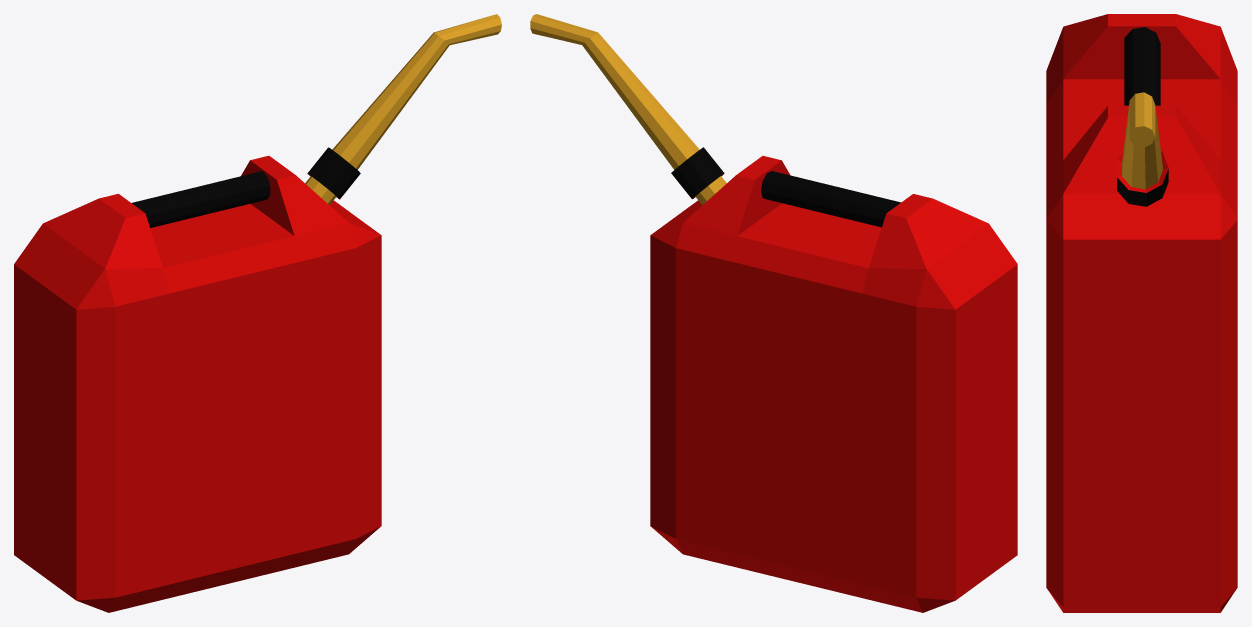
Rendered from GasCan.fbx.
3 views of the same model, side by side, from view 1: azimuth 30°, elevation 25°; view 2: azimuth 150°, elevation 25°; view 3: azimuth 270°, elevation 25° (orthographic). The views are drawn at different scales.
Visible parts, largest first — view 1: Cube; view 2: Cube; view 3: Cube.
Boxes of the visible parts, x1=… form: Cube: x1=14, y1=14, x2=501, y2=612; Cube: x1=530, y1=14, x2=1017, y2=612; Cube: x1=1046, y1=14, x2=1237, y2=612.
Bounding box in the file's own units: 248 × 247 × 71.74.
